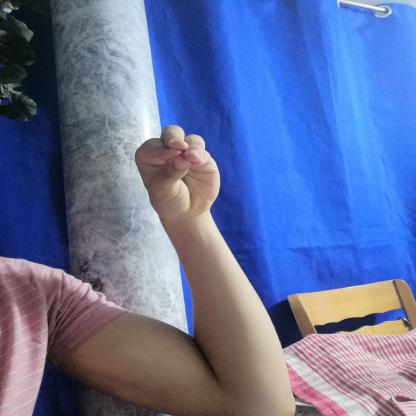HA: (117, 119, 238, 227)
